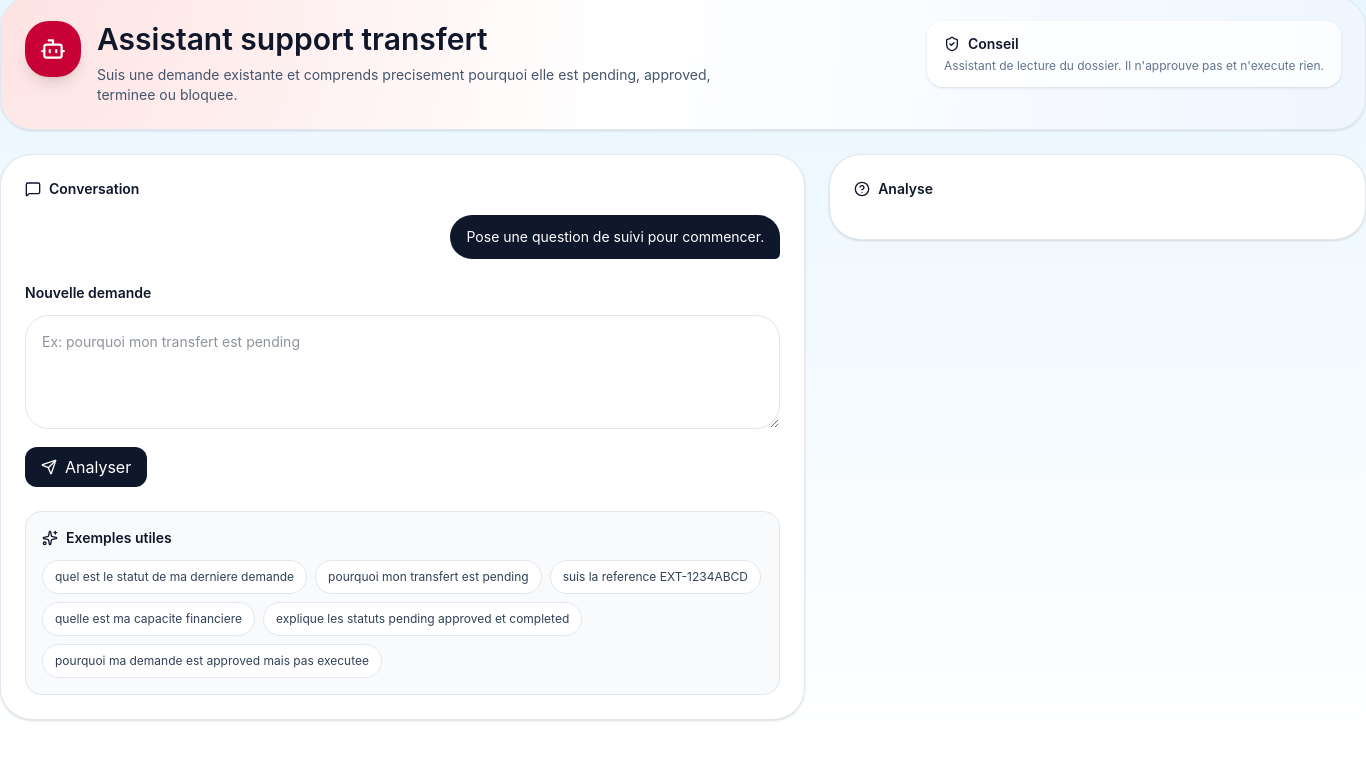
Scenario: TransferSupportAgentPage › replays a backend transfer suggestion when clicked
What coordinates should you click on to do the following:
click the button "pourquoi mon transfert est pending"
I would click on:
 (428, 577)
Its box is [315,560,542,594].
(page scrolled)
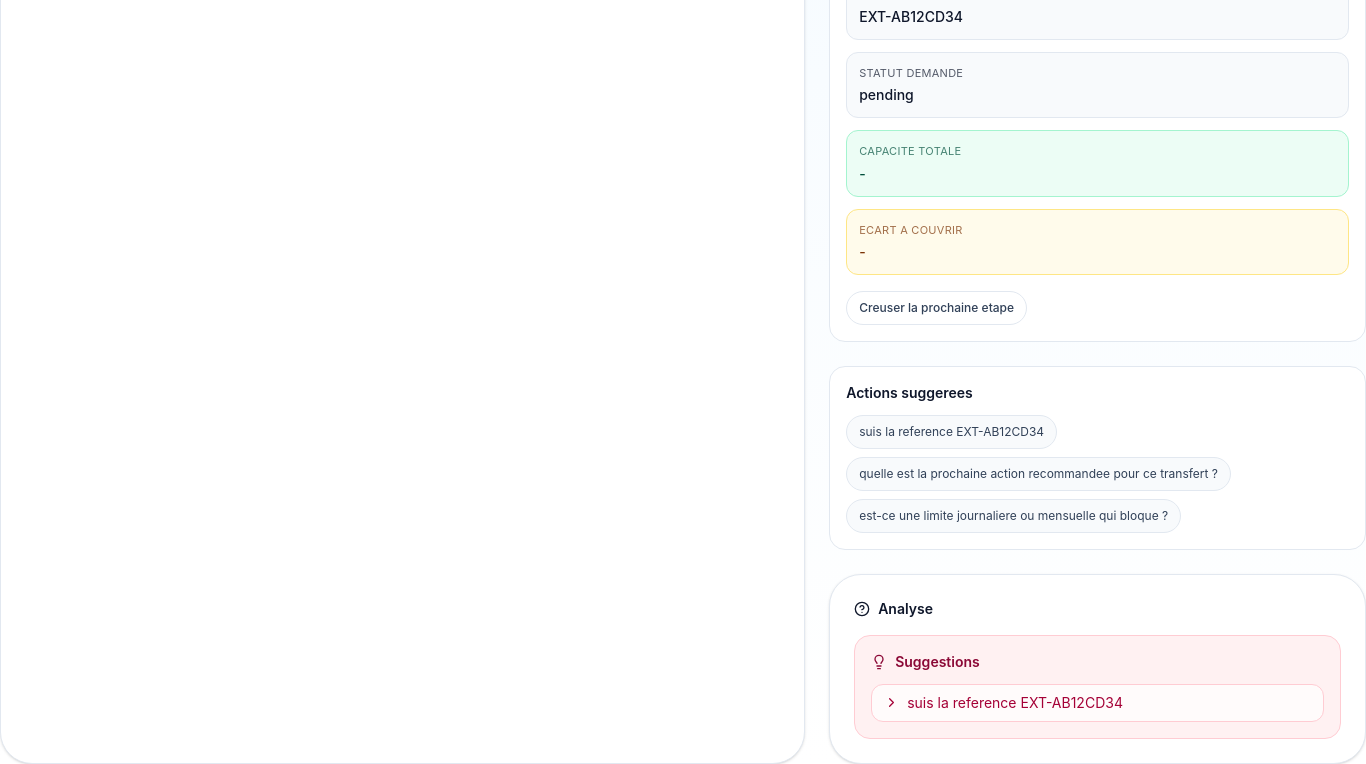
What coordinates should you click on to do the following:
click the button "suis la reference EXT-AB12CD34" below "Actions suggerees"
I would click on:
 (952, 432)
Its box is [846,415,1057,449].
(page scrolled)
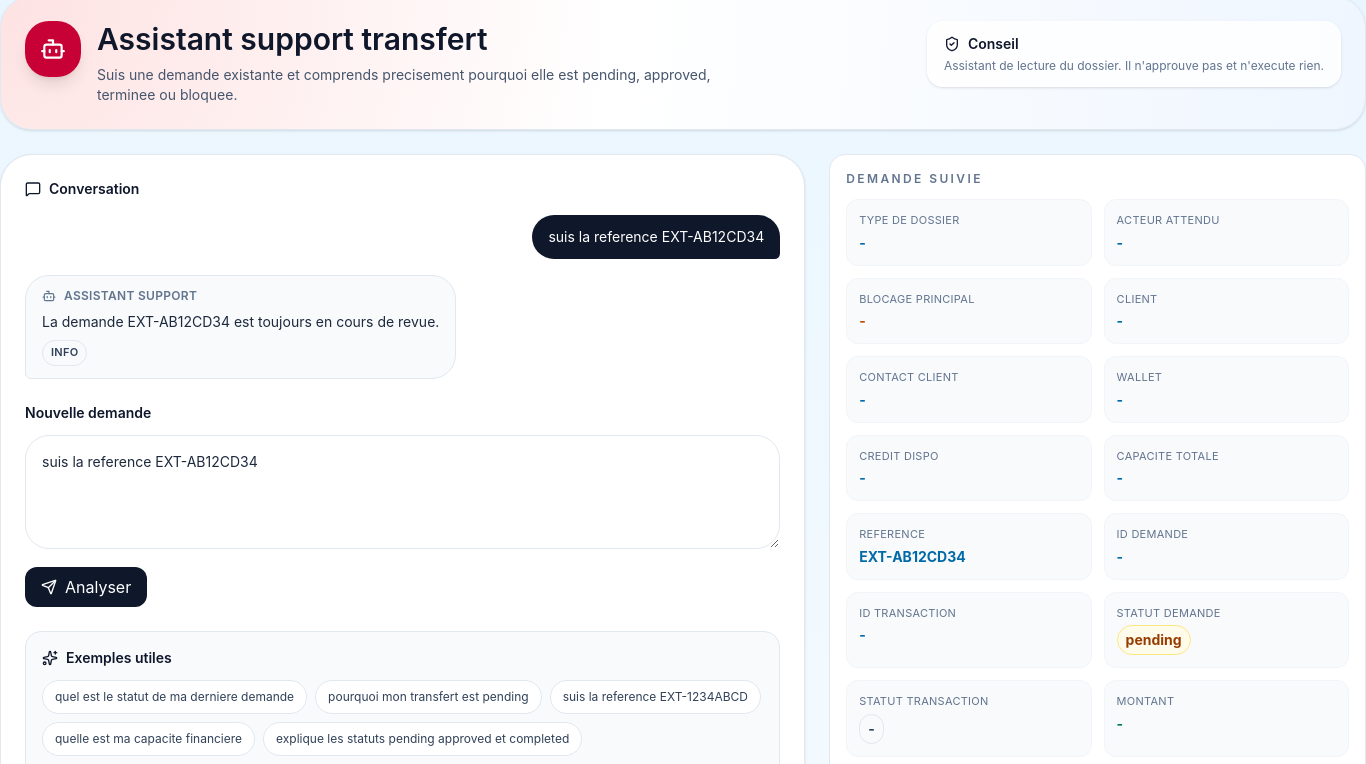
Now the text "La demande EXT-AB12CD34 est toujours en cours de revue." is shown, box [42,313,439,330]
